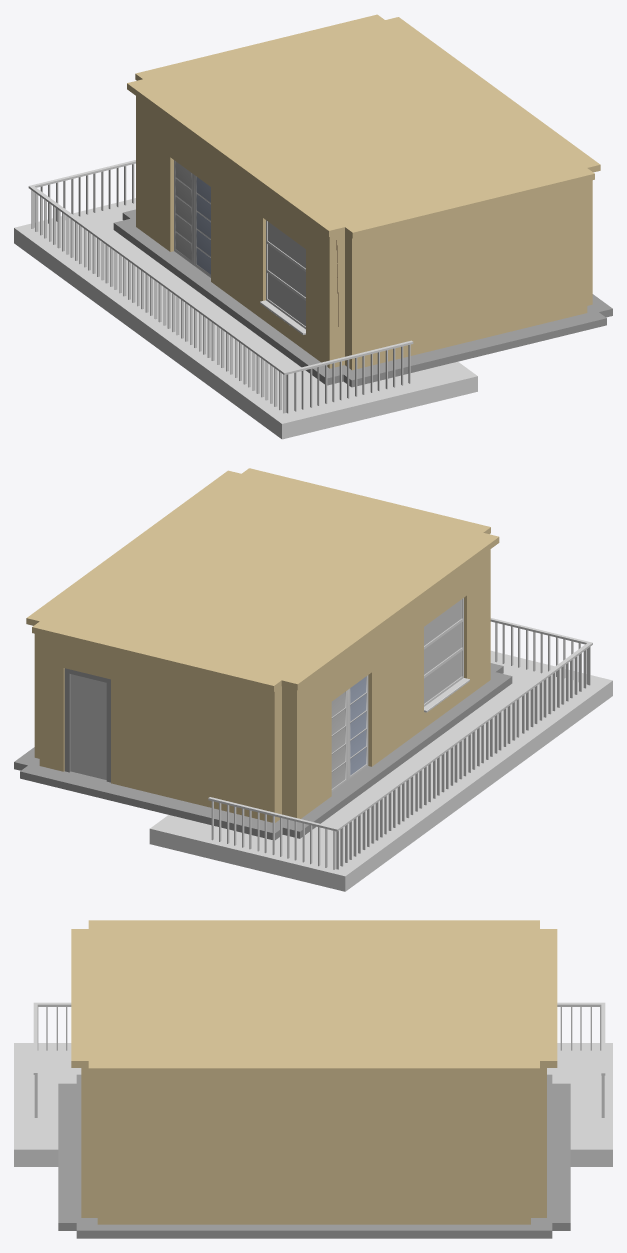
Rendered from FloorPlan201.fbx.
The picture shows the model from 3 angles, top to bottom: view 1: azimuth 30°, elevation 25°; view 2: azimuth 150°, elevation 25°; view 3: azimuth 270°, elevation 25°; orthographic projection. The views are drawn at different scales.
Visible parts, largest first — view 1: Ceiling.009, Room.001, Cube.801, Cube.802, Floor, Window.001, Cube.047, Cube.766; view 2: Ceiling.009, Room.001, Cube.801, Cube.802, Floor, Door.003, Window.001, Cube.766, Cube.047, DoorFrame; view 3: Ceiling.009, Room.001, Floor, Cube.801, Cube.802.
Part boxes in pixels (x1,y1,x2,y2): Ceiling.009: (127,14,600,238); Room.001: (136,96,592,370); Cube.801: (14,198,477,439); Cube.802: (28,160,413,413); Floor: (113,209,612,387); Window.001: (260,220,305,334); Cube.047: (174,160,193,265); Cube.766: (194,175,210,277); Ceiling.009: (26,468,499,691); Room.001: (34,549,490,822); Cube.801: (149,650,612,891); Cube.802: (208,618,592,869); Floor: (14,663,512,840); Door.003: (70,674,106,779); Window.001: (424,598,469,712); Cube.766: (348,675,368,780); Cube.047: (331,690,347,792); DoorFrame: (64,668,110,782); Ceiling.009: (71,920,557,1075); Room.001: (81,1068,546,1224); Floor: (58,1074,570,1238); Cube.801: (14,1043,612,1166); Cube.802: (33,1002,605,1117).
Bounding box in the file's own units: 714 × 312 × 923.
